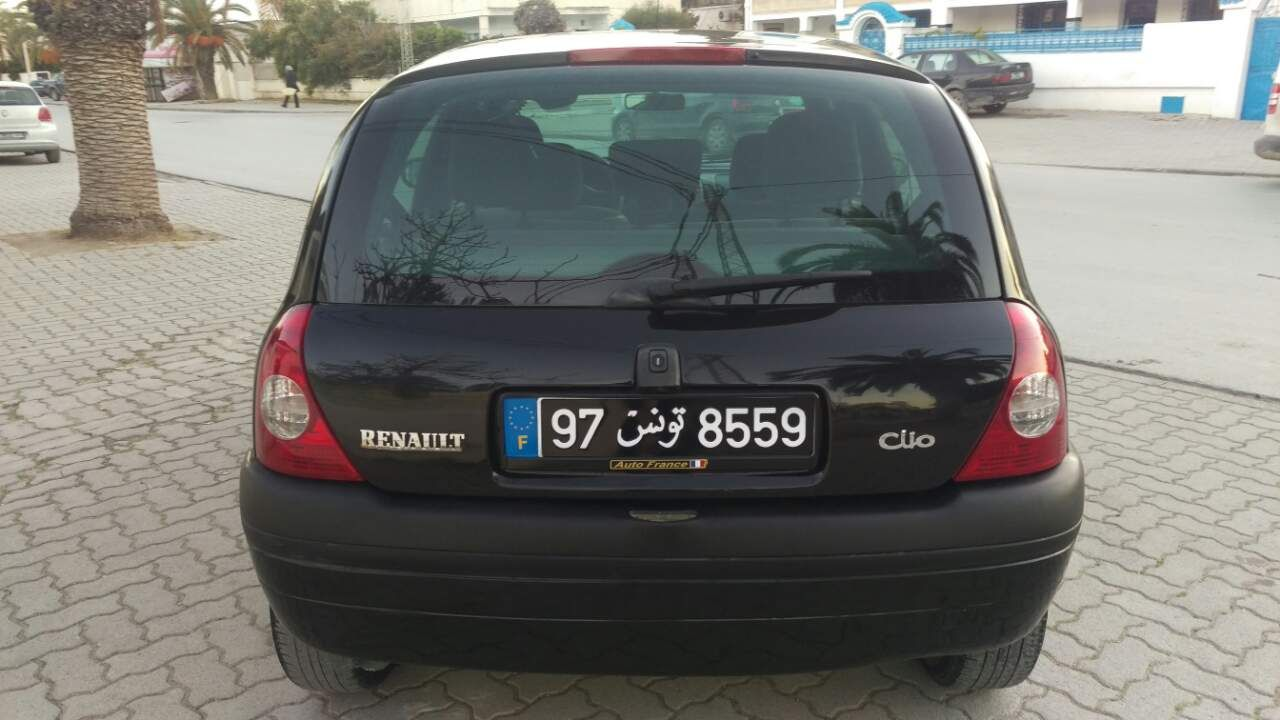LP: (534, 390, 823, 471)
